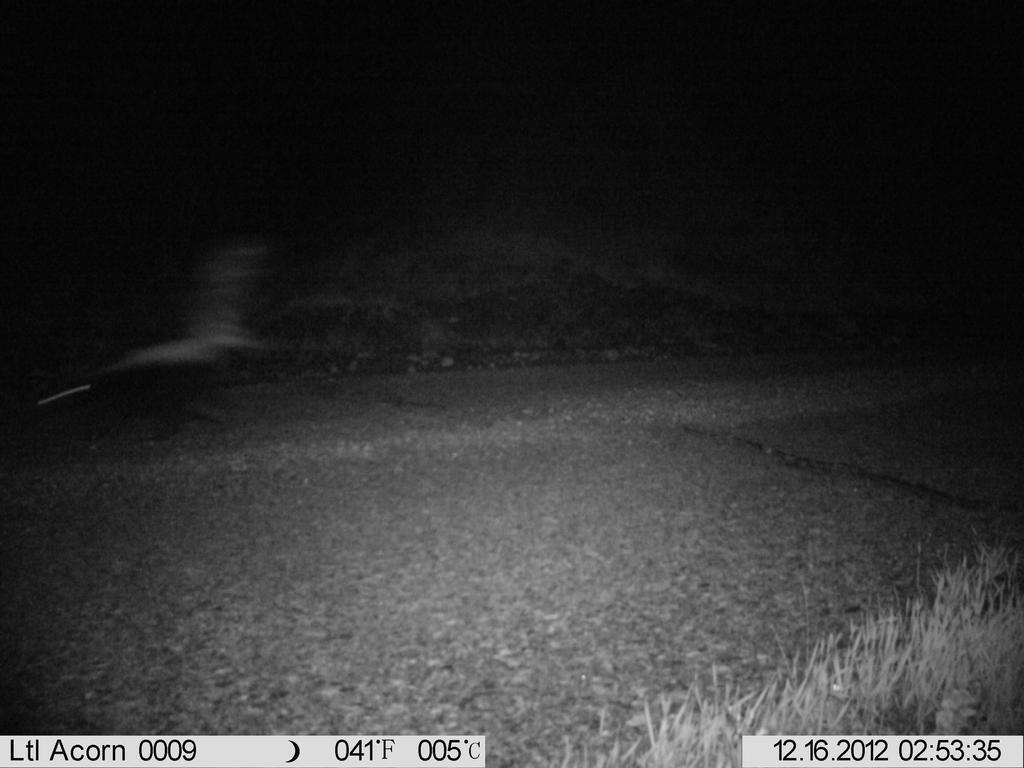skunk: (36, 229, 279, 445)
